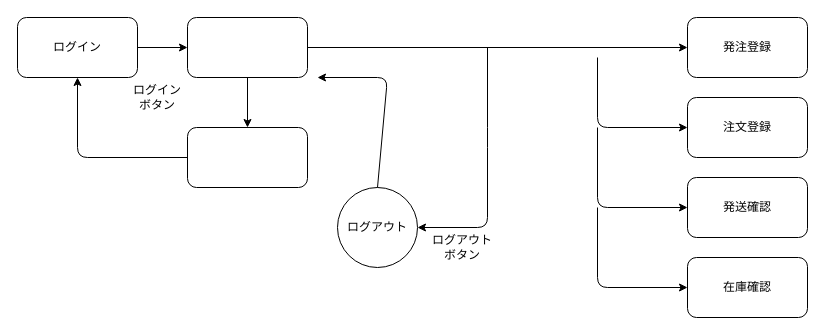
The diagram is 825 pixels wide and 335 high, and some of its shapes have lost their labels. The shapes that lost their labels are listed below. From the top down, each one's box as (x1, y1, x2, y2) in pixels, then its label:
(186, 16, 308, 78): メニュー画面
(186, 126, 308, 188): 新規登録
